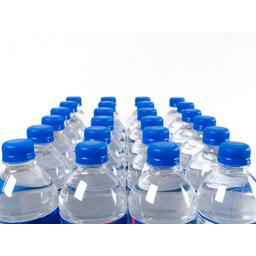plastic: (186, 139, 256, 240), (130, 141, 194, 238), (1, 137, 57, 240), (62, 139, 118, 240)
